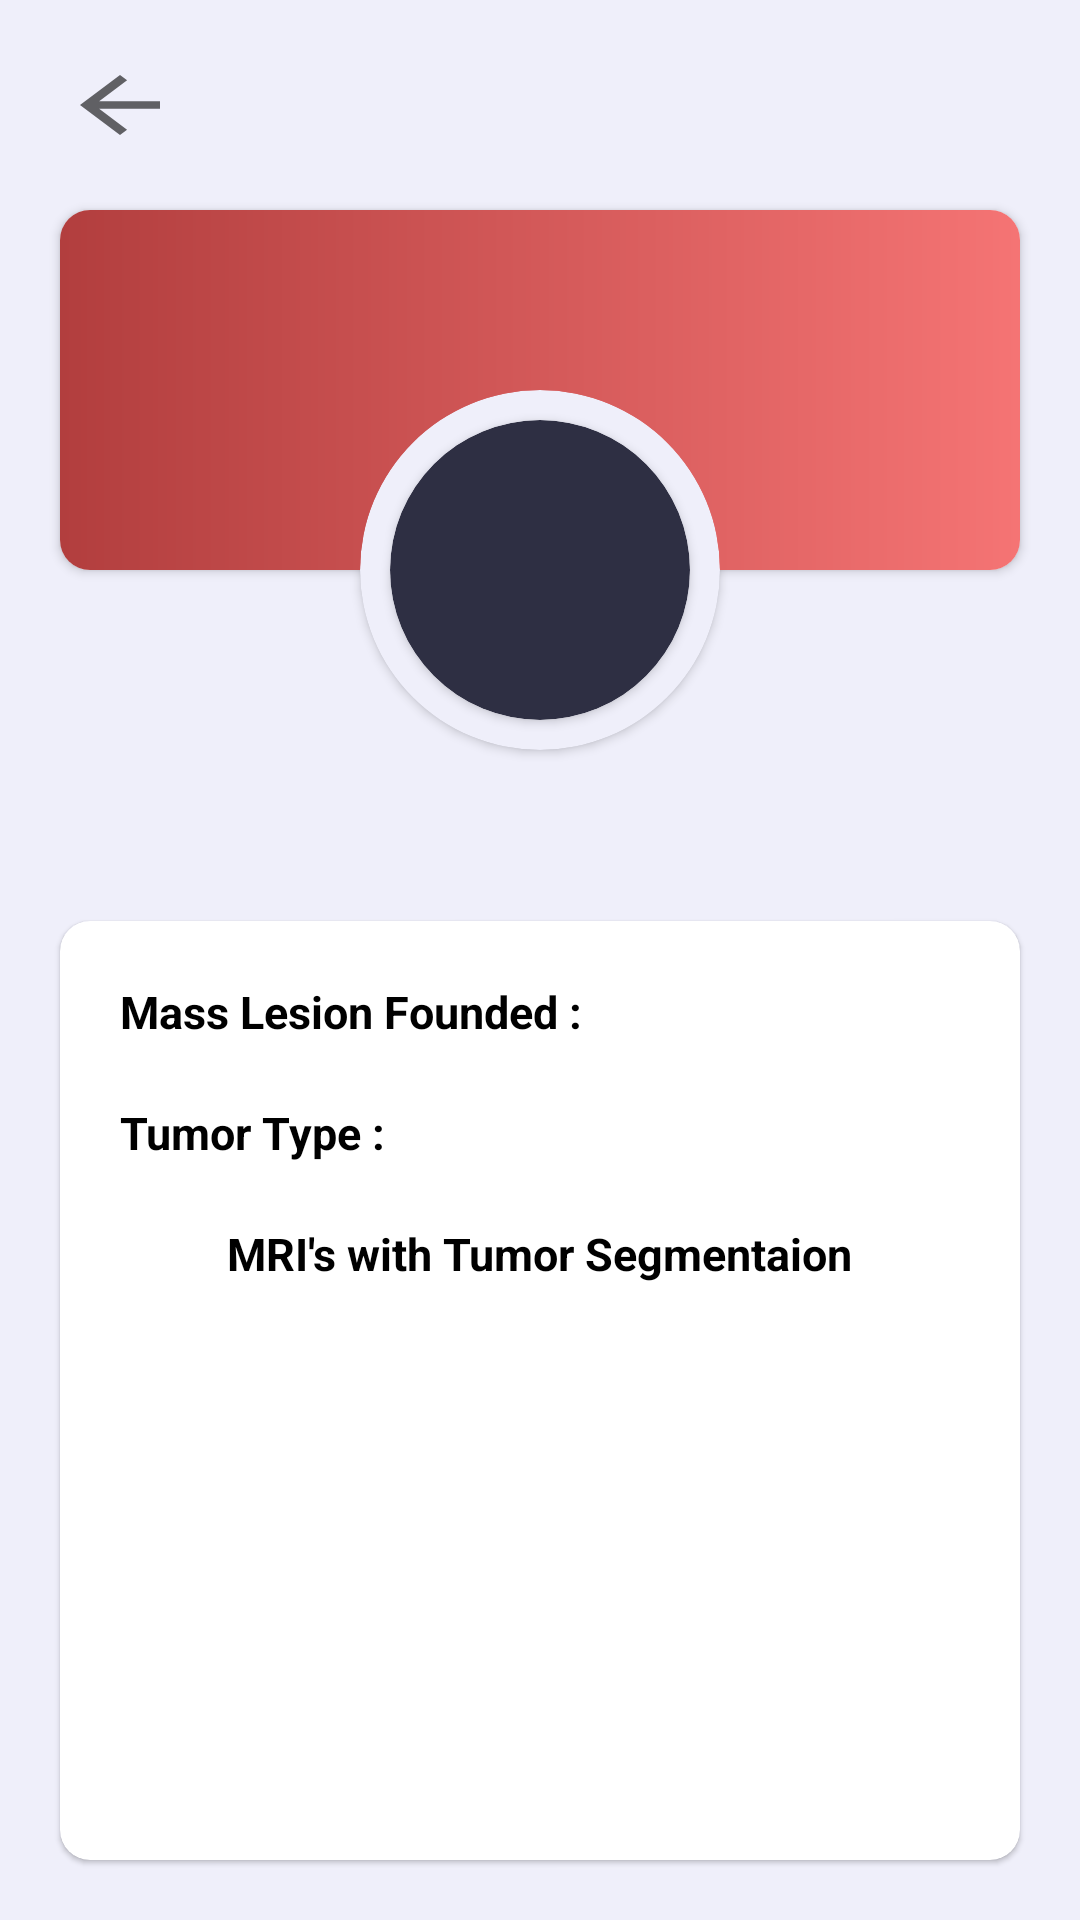

Locate icon controls on the screen. Image size 1080×1920, boxes as bbox=[x1, y1, x2, y2].
arrow back: bbox=[80, 75, 160, 135]
